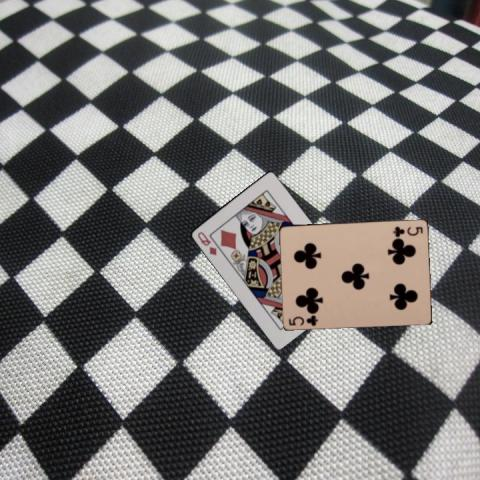5c: (286, 311, 319, 327), (390, 223, 424, 237)
Qd: (194, 228, 218, 256)
